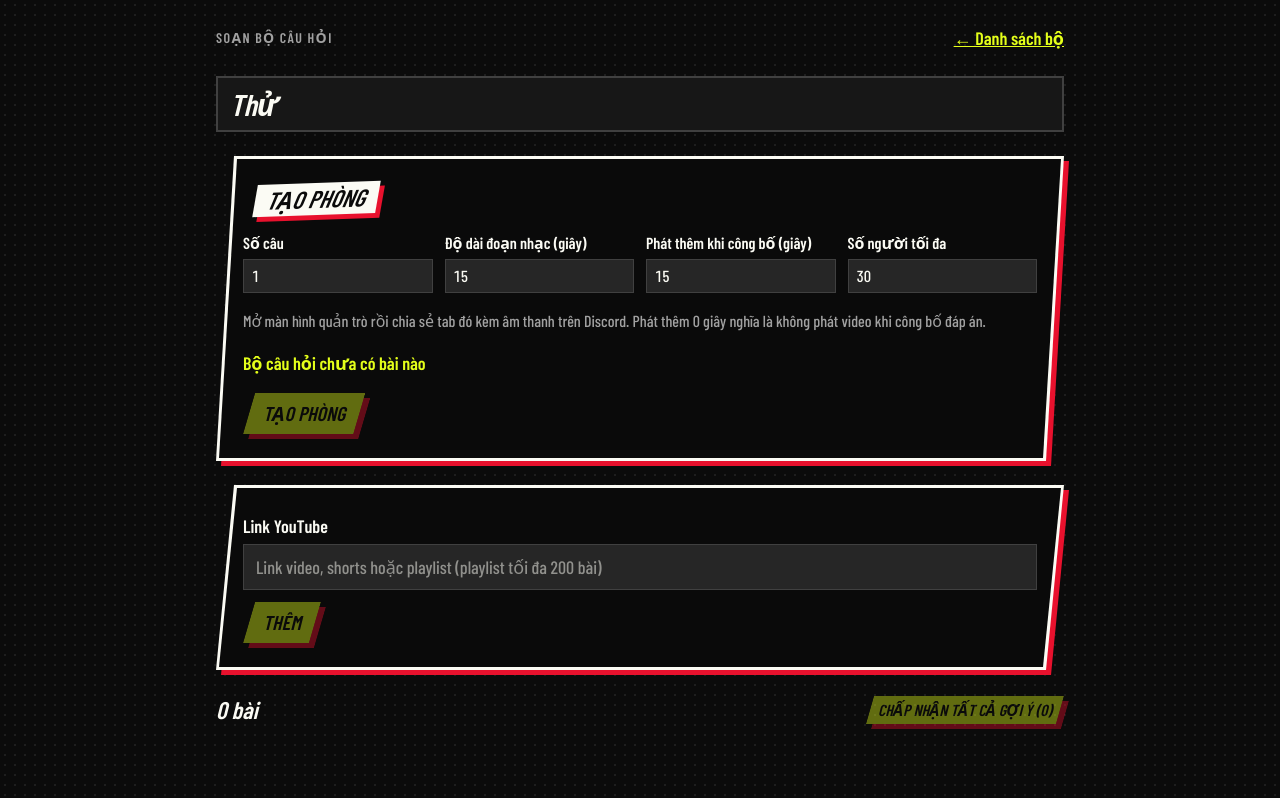
Test: SetEditor › reports failed suggestions and retries the unnamed songs on request
Type "https://www.youtube.com/playlist?list=PL123" into the field labelled "Link YouTube" at (640, 567), box left=243, top=544, right=1037, bottom=590
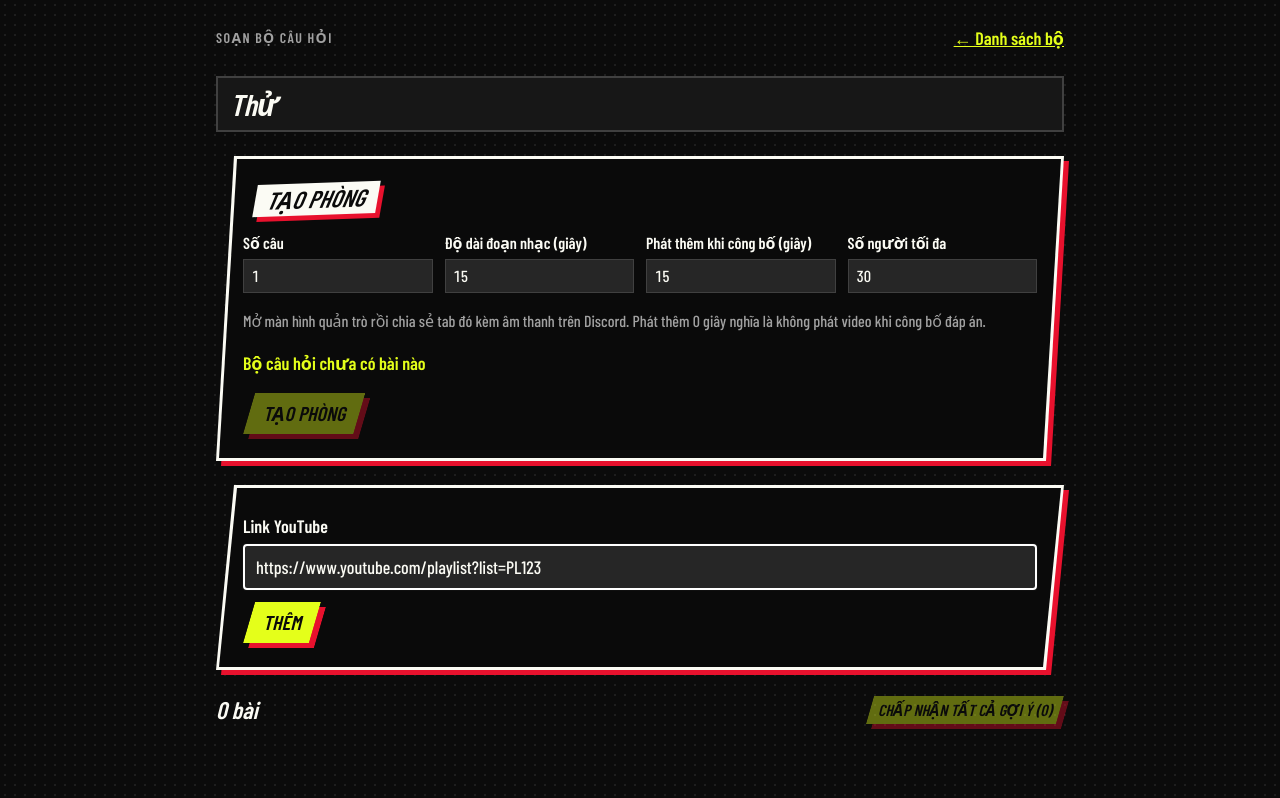
Click the button "Thêm" at (282, 622), box left=243, top=602, right=321, bottom=643
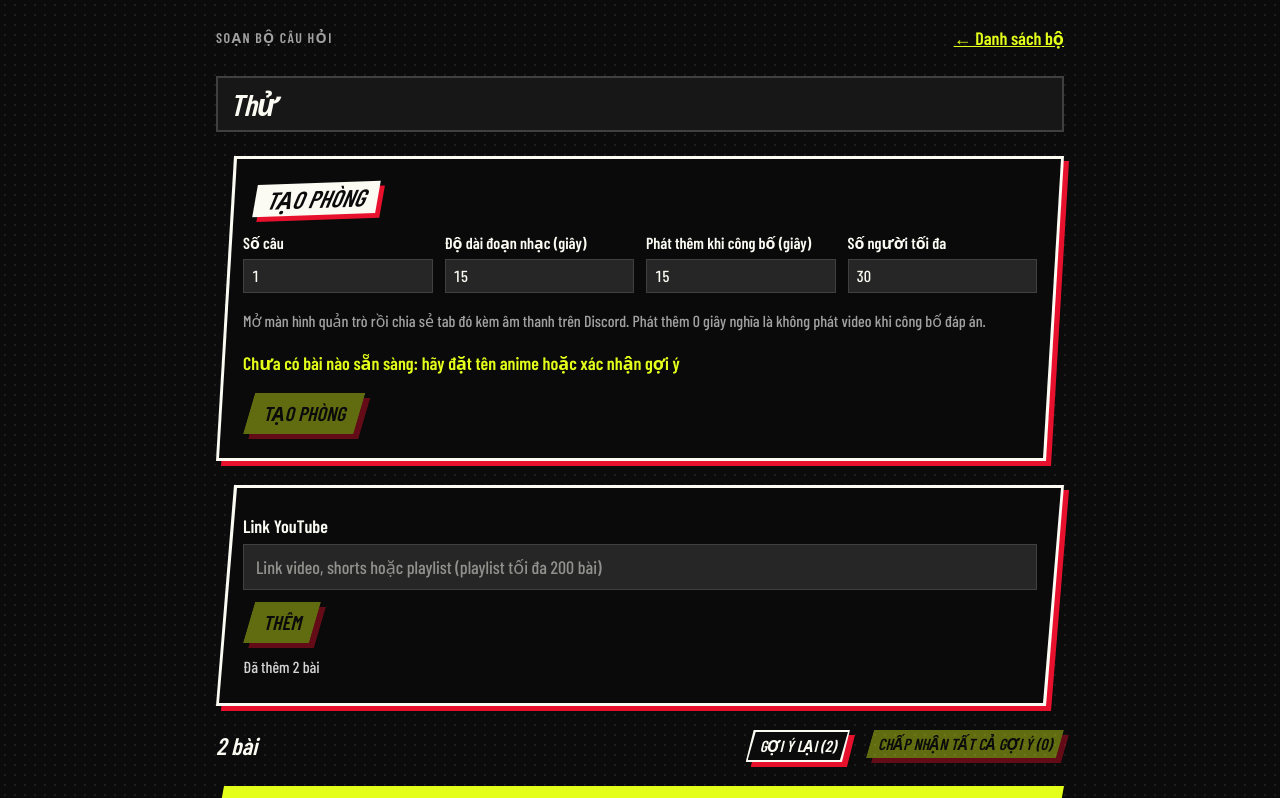
Click the button "Gợi ý lại (2)" at (798, 746), box left=746, top=730, right=850, bottom=762
(page scrolled)
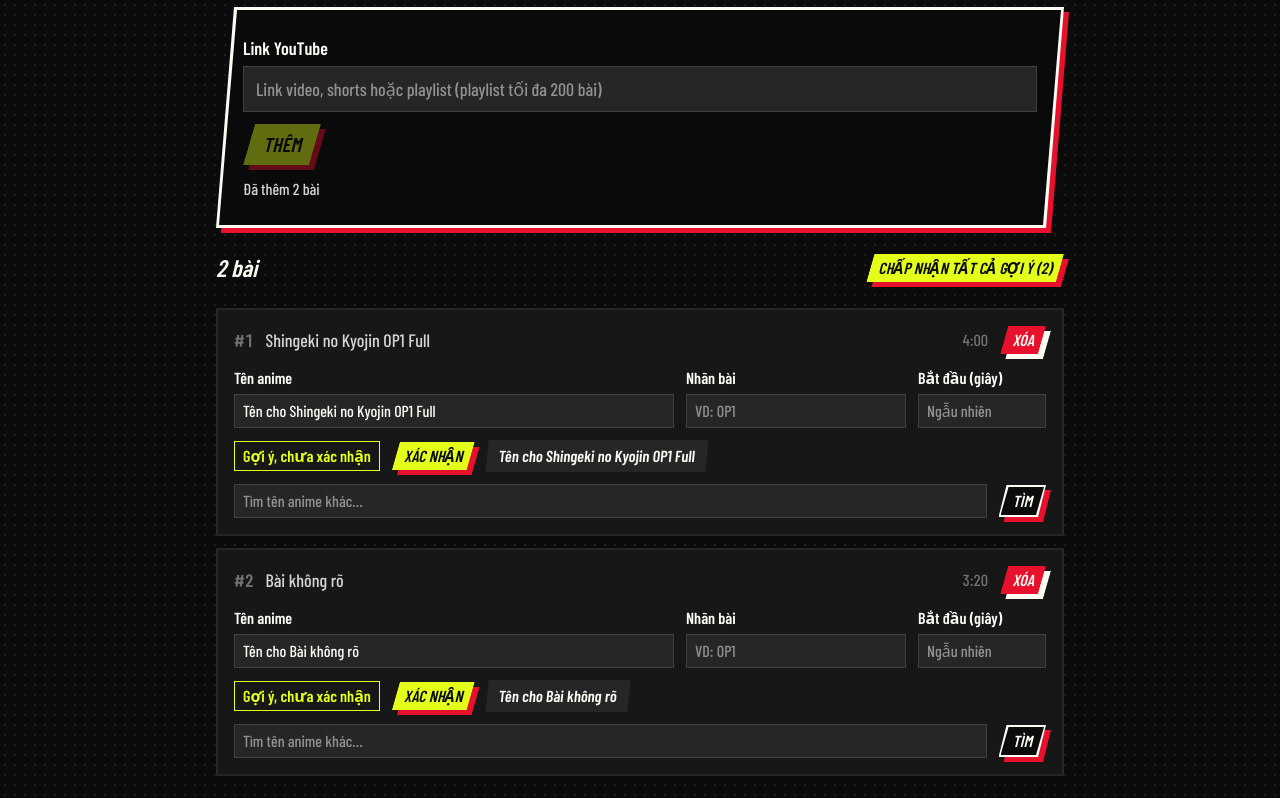
Result: the button "Gợi ý lại" is gone
